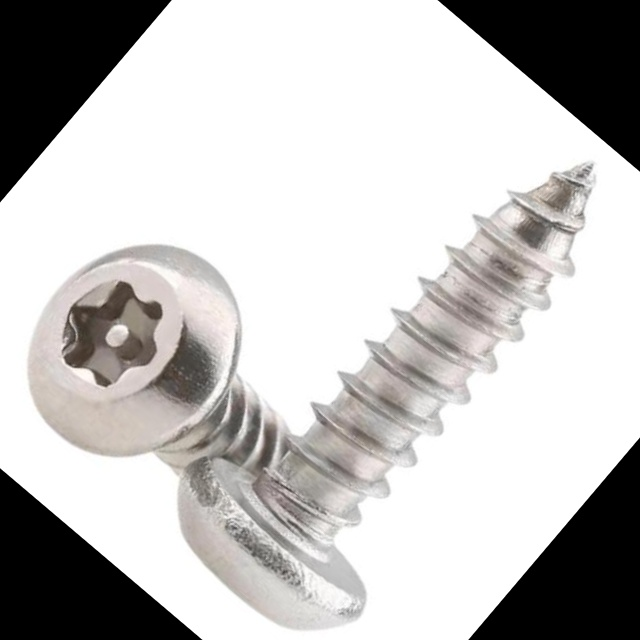torx: (0, 196, 288, 504)
